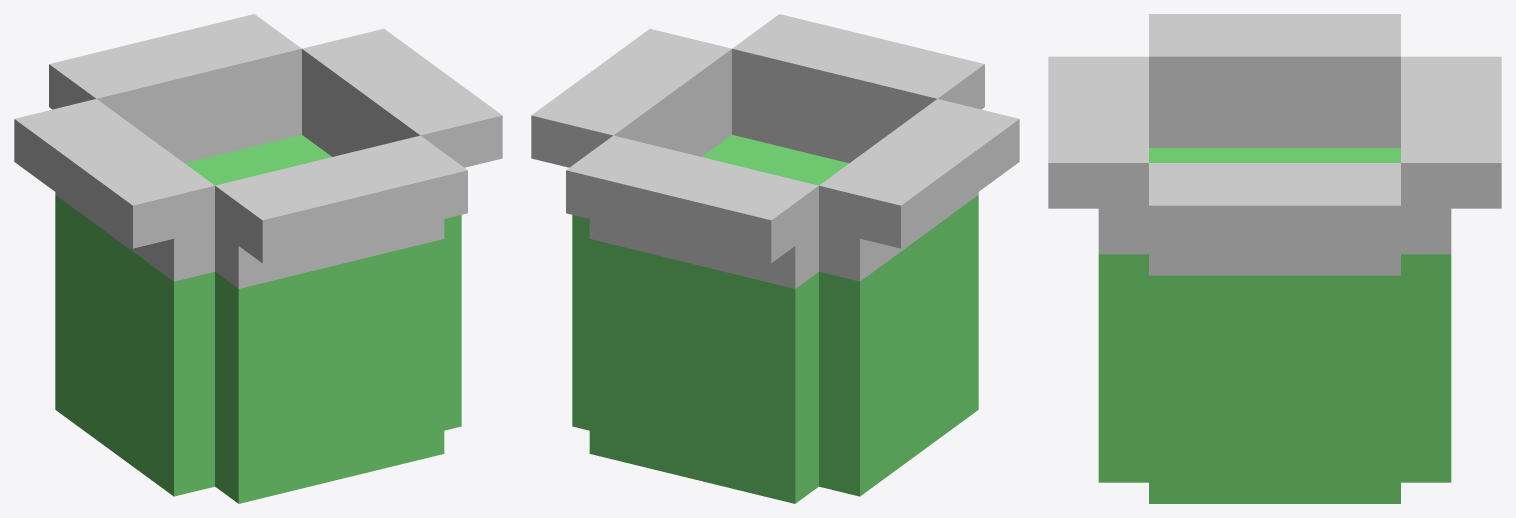
File: SchoolPack-11-Wide scientific vessel.obj
3 renders of one model, left to right at view 1: azimuth 30°, elevation 25°; view 2: azimuth 150°, elevation 25°; view 3: azimuth 270°, elevation 25°, orthographic. The views are drawn at different scales.
Parts seen in each view (by area): view 1: Wide scientific vessel; view 2: Wide scientific vessel; view 3: Wide scientific vessel.
Boxes of the visible parts, x1,y1,x2,y2 form: Wide scientific vessel: (14, 14, 502, 503); Wide scientific vessel: (531, 14, 1019, 503); Wide scientific vessel: (1048, 14, 1501, 503).
Size of the model in its own units: 0.9 by 0.7 by 0.9.
1 material, 1 textured.
